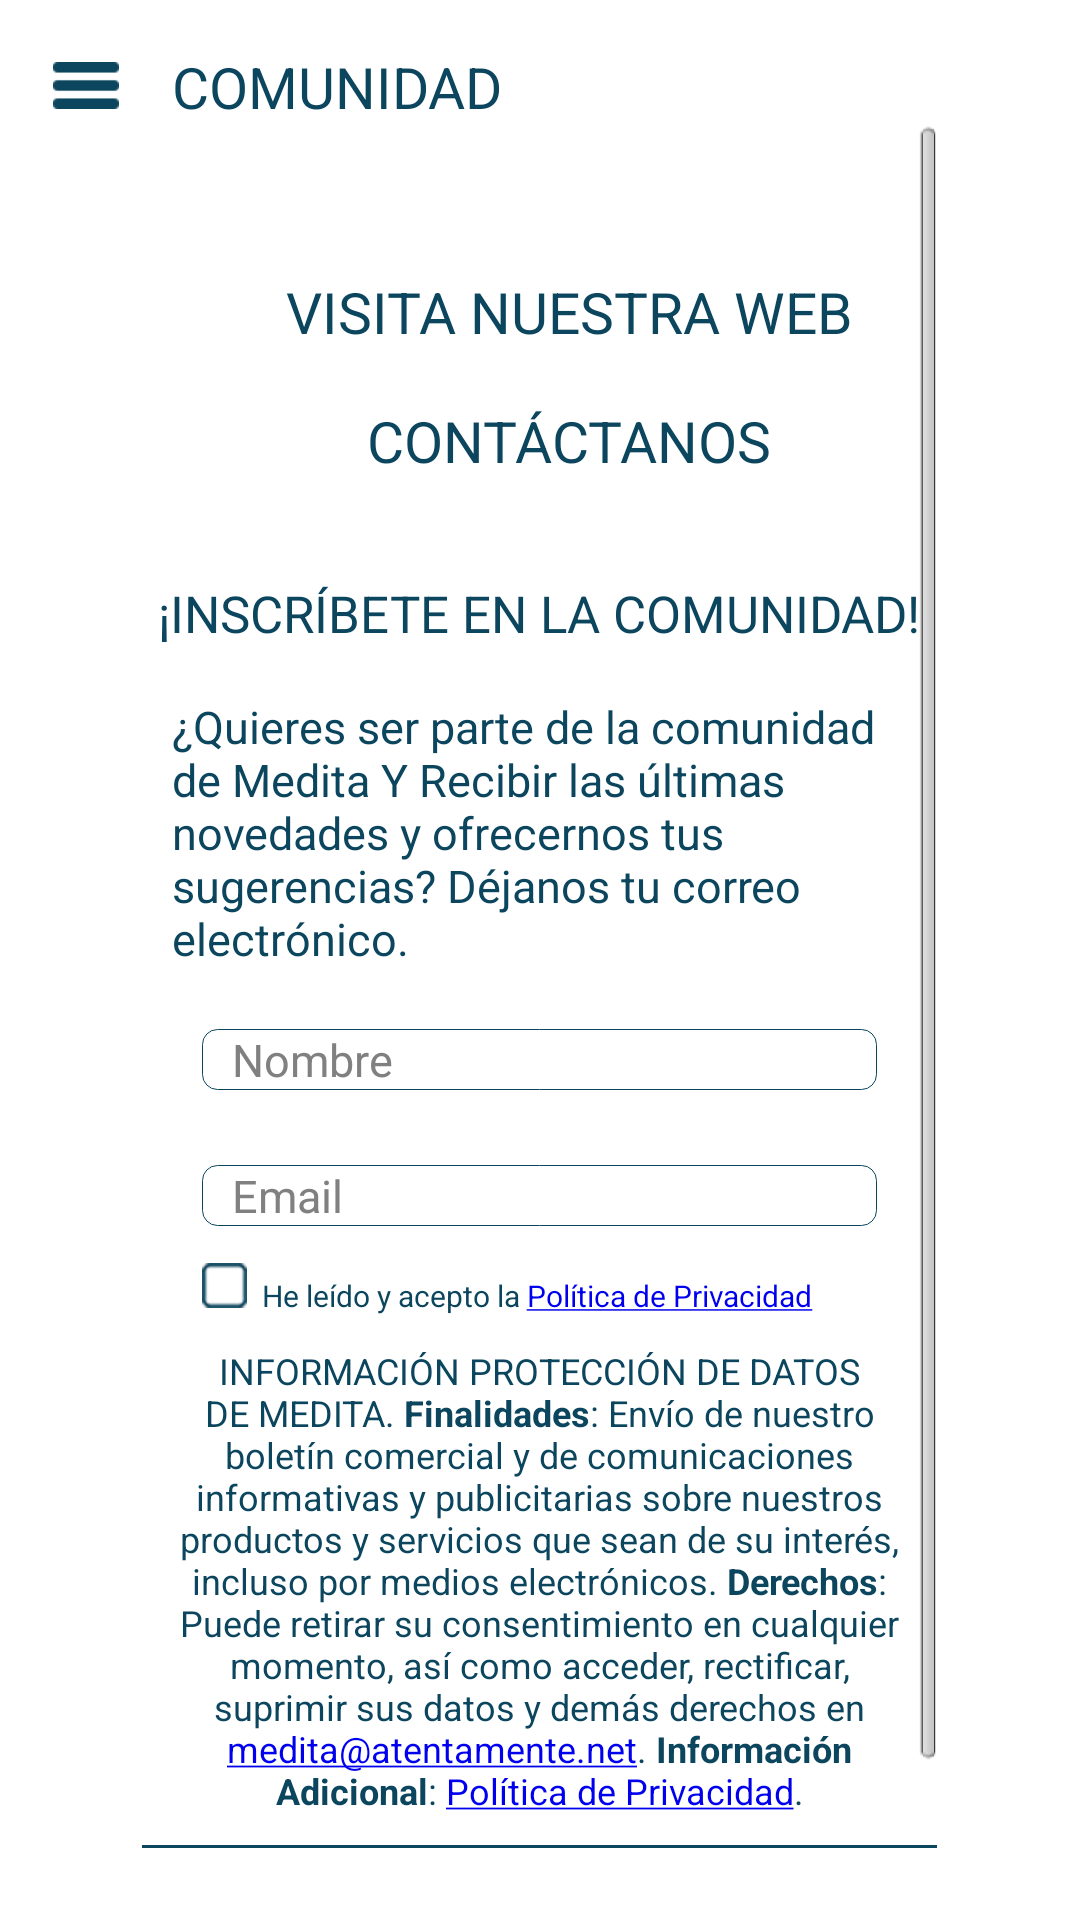

Icon click points for this 1080 x 1920 phone screenshot, format (x,y):
custom checkbox: (224,1285)
hamburguesa: (86,85)
